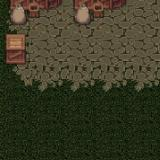Hide: (0, 27, 35, 73)
Obstacle: (0, 0, 68, 31), (68, 0, 131, 31)
